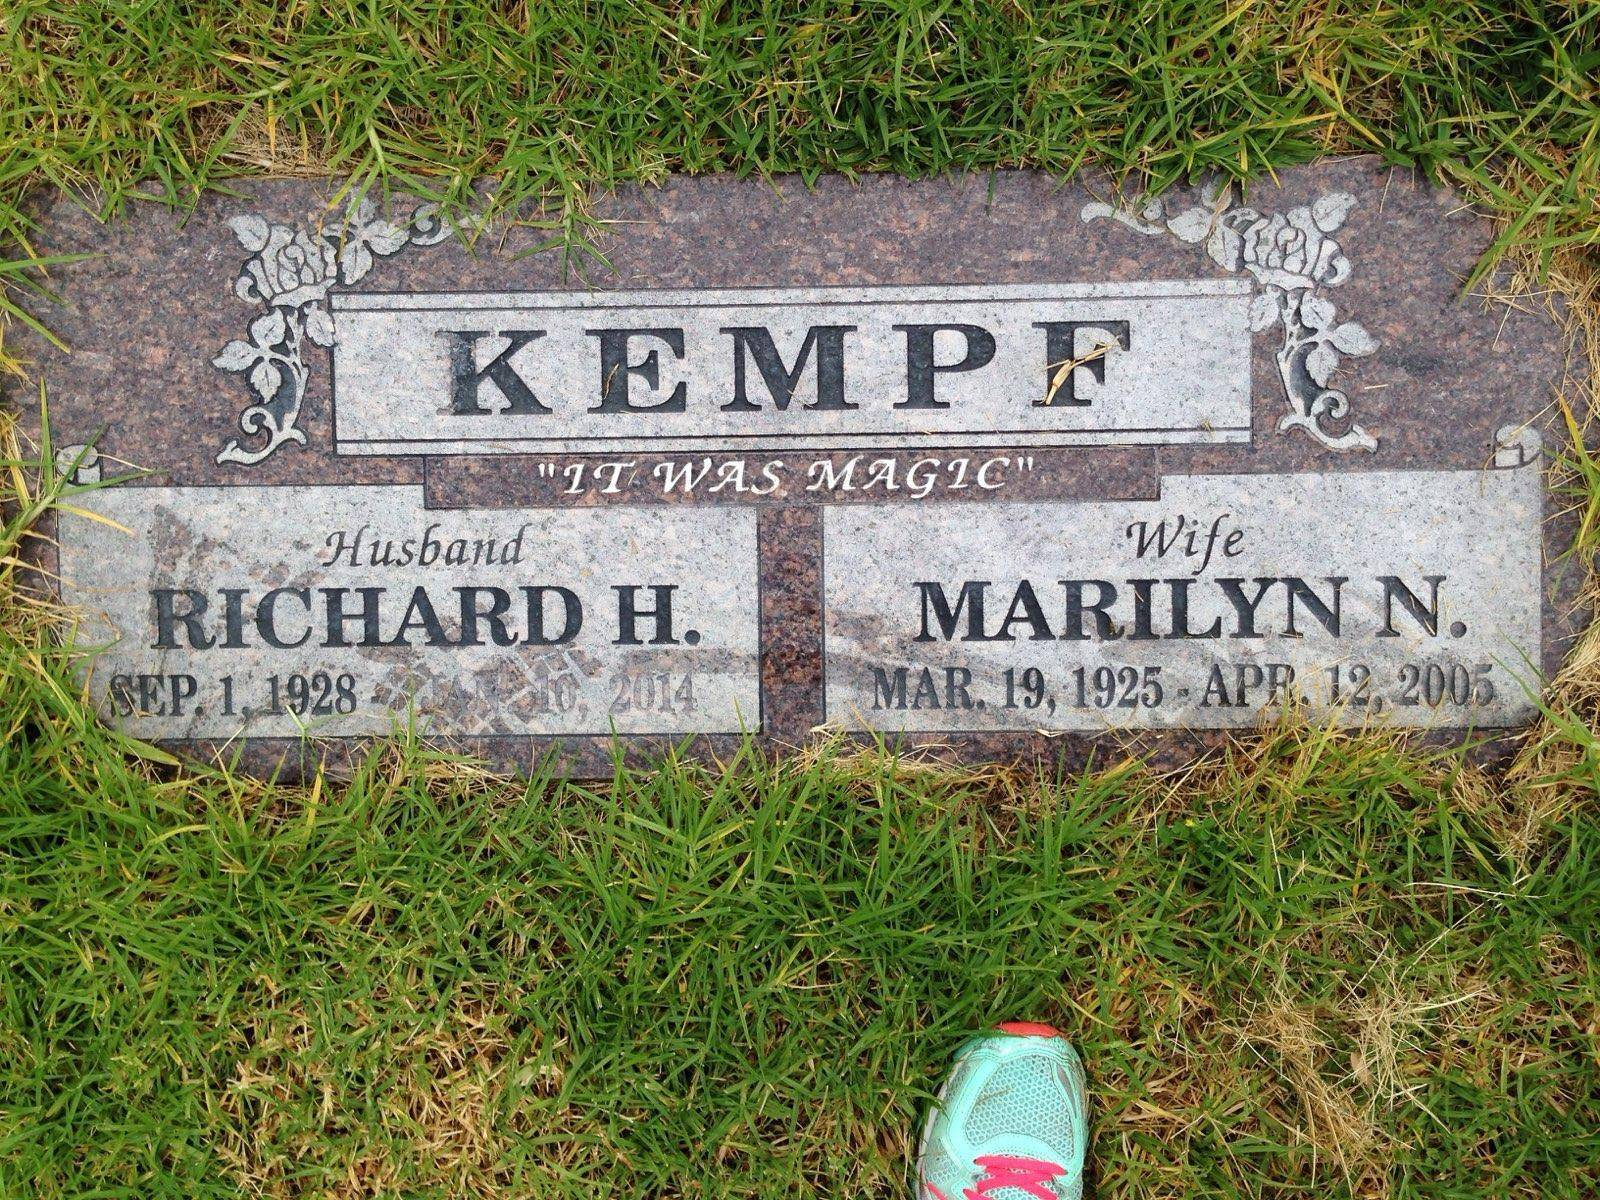flat: (30, 155, 1591, 766)
